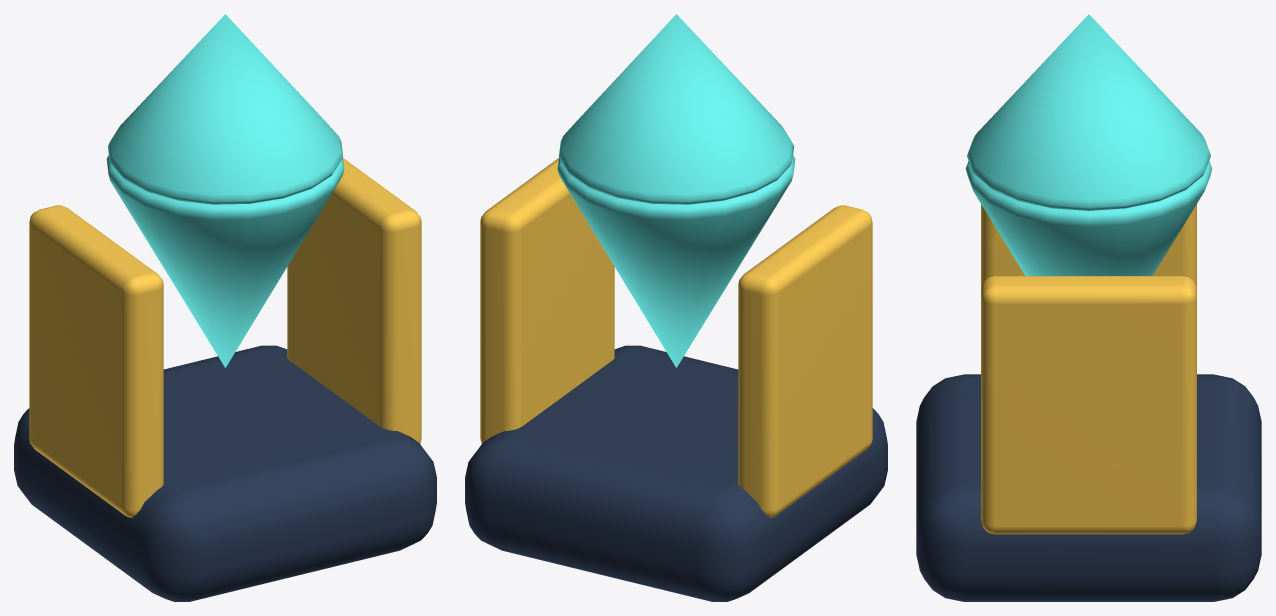
Rendered from relay.glb.
3 views of the same model, side by side, from view 1: azimuth 30°, elevation 25°; view 2: azimuth 150°, elevation 25°; view 3: azimuth 270°, elevation 25° (orthographic). The views are drawn at different scales.
Visible parts, largest first — view 1: Relay plinth, Golden cradle, Golden cradle.001, Crystal upper, Crystal lower; view 2: Relay plinth, Golden cradle, Golden cradle.001, Crystal upper, Crystal lower; view 3: Golden cradle.001, Relay plinth, Crystal upper, Crystal lower, Golden cradle.
Part boxes in pixels (bbox=[...]): Relay plinth: bbox=[14, 345, 436, 601]; Golden cradle: bbox=[29, 205, 163, 517]; Golden cradle.001: bbox=[287, 158, 421, 443]; Crystal upper: bbox=[107, 14, 343, 204]; Crystal lower: bbox=[106, 155, 344, 367]; Relay plinth: bbox=[465, 345, 887, 601]; Golden cradle: bbox=[738, 205, 872, 517]; Golden cradle.001: bbox=[480, 158, 614, 443]; Crystal upper: bbox=[558, 14, 794, 204]; Crystal lower: bbox=[557, 155, 795, 367]; Golden cradle.001: bbox=[981, 276, 1196, 534]; Relay plinth: bbox=[916, 374, 1261, 601]; Crystal upper: bbox=[967, 14, 1210, 210]; Crystal lower: bbox=[965, 161, 1212, 275]; Golden cradle: bbox=[981, 204, 1196, 288].
Size of the model in its own units: 0.74 by 1.22 by 0.72.
